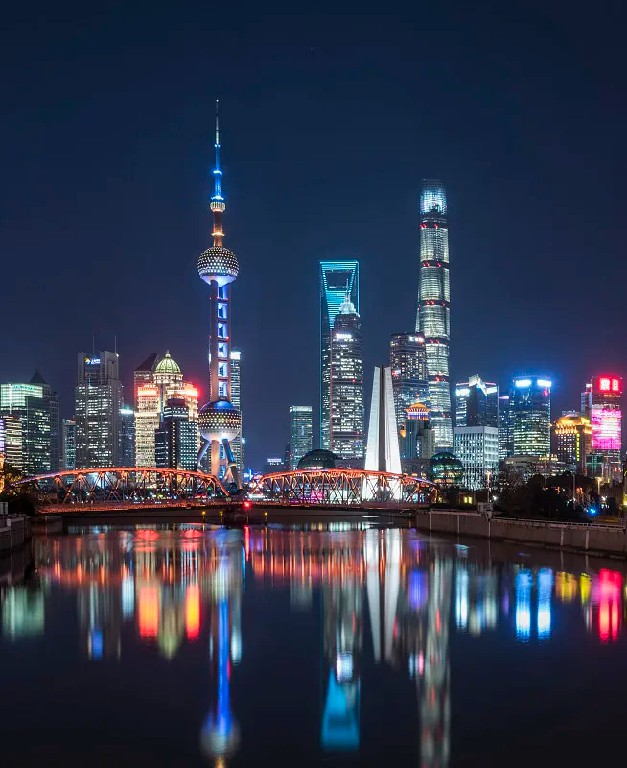Oriental: (196, 95, 244, 488)
